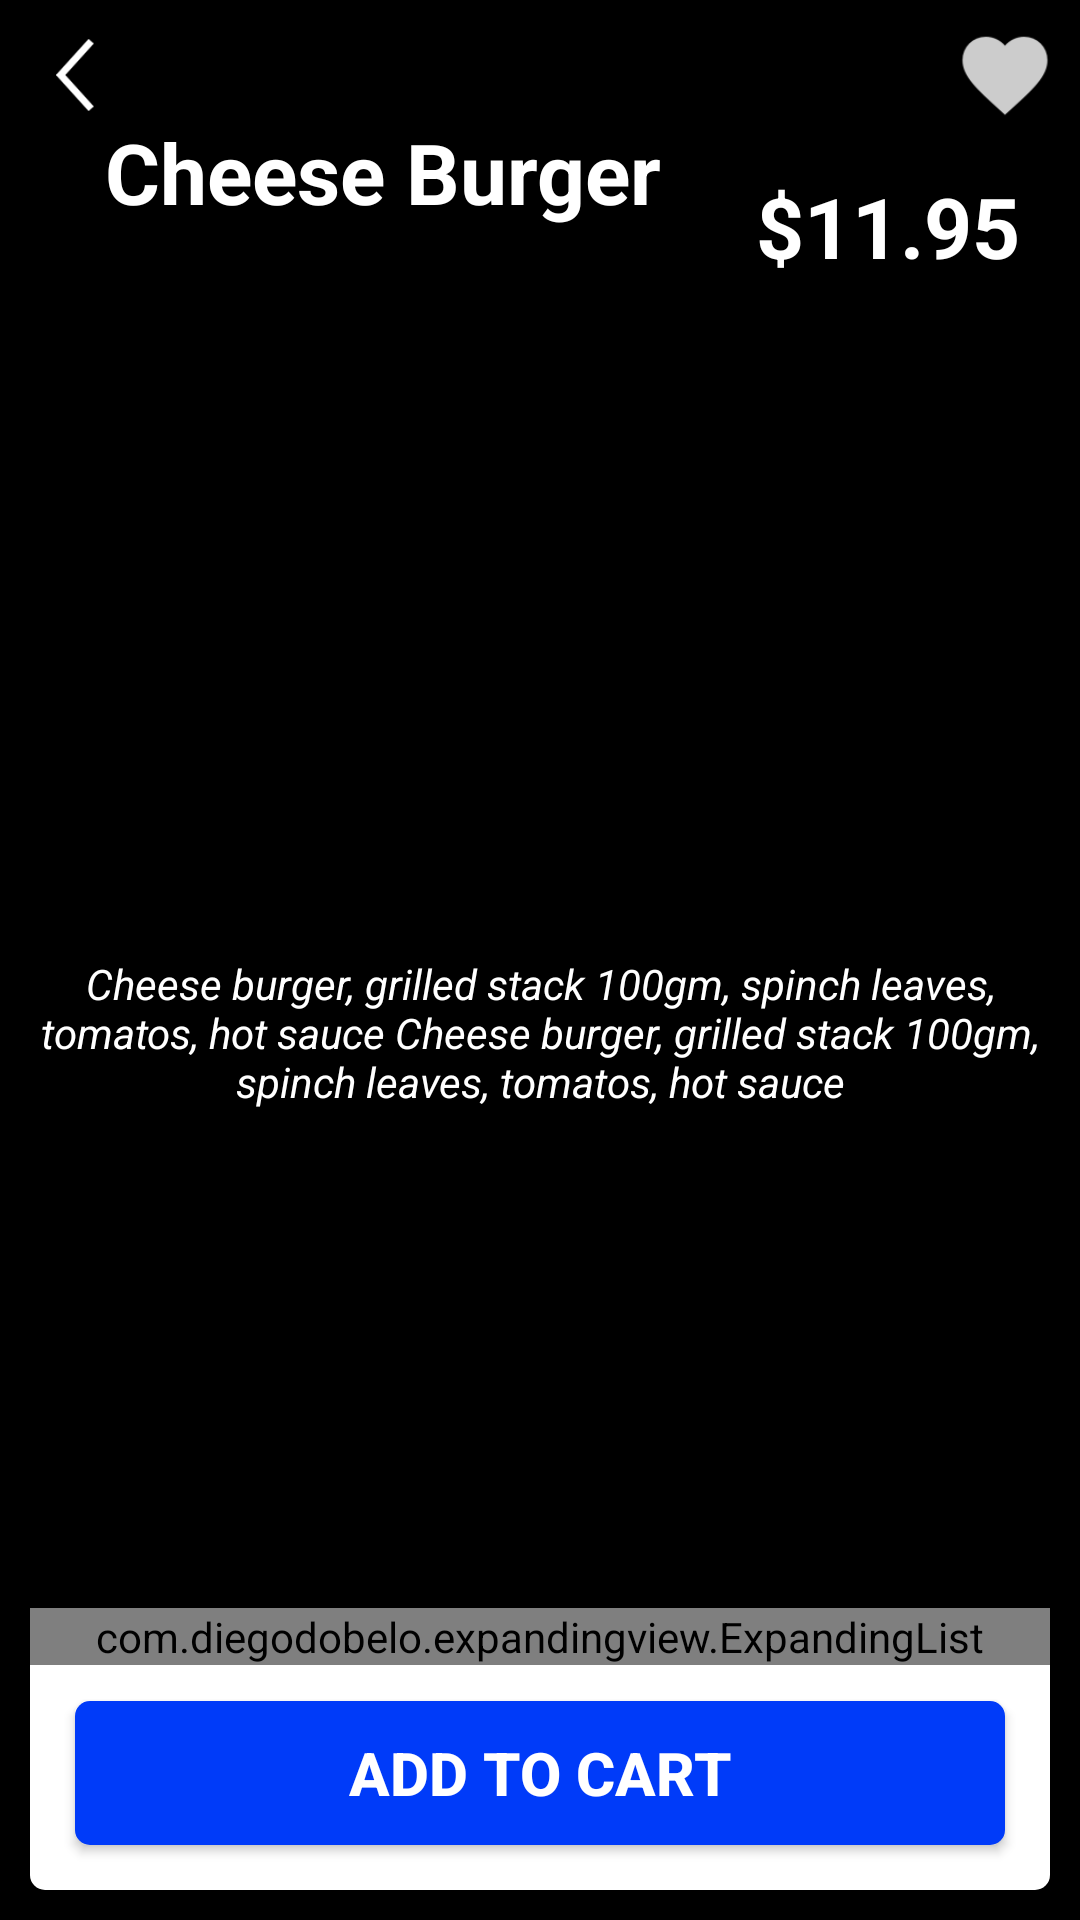

Locate icon controls on the screen. Image size 1080*1920, boxes as Rect(x1, y1, x2, y2).
back: Rect(56, 39, 94, 111)
fav yes: Rect(962, 36, 1048, 115)
